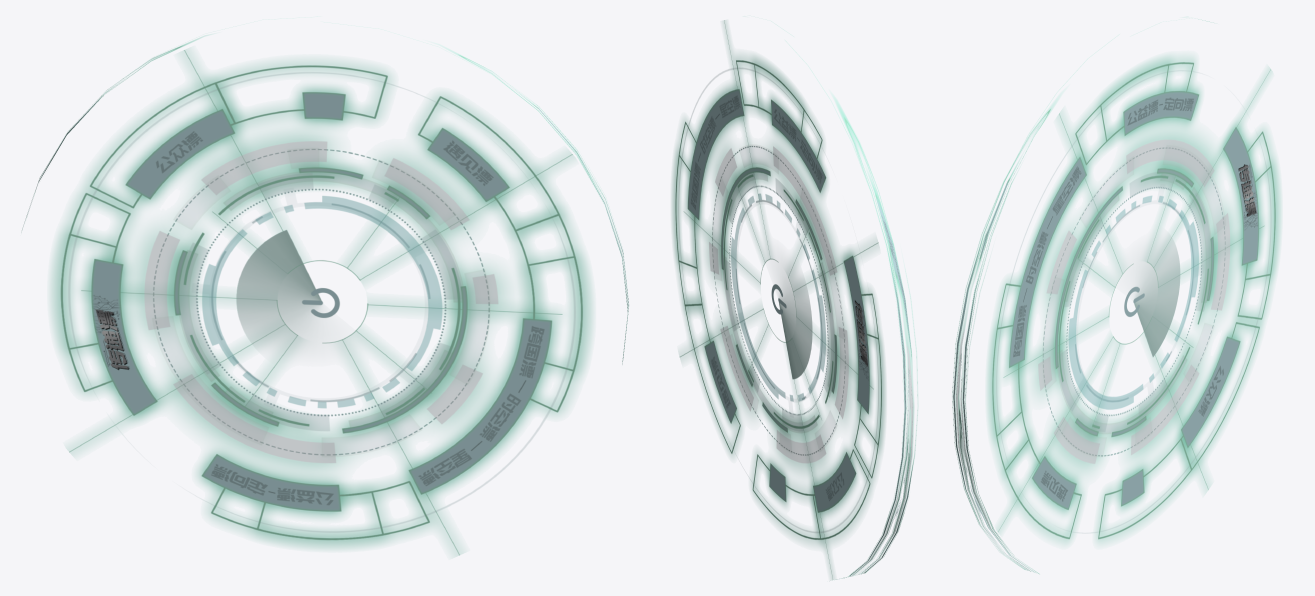
The model's file is zhuanpan.glb.
The picture shows the model from 3 angles, left to right: view 1: azimuth 30°, elevation 25°; view 2: azimuth 150°, elevation 25°; view 3: azimuth 270°, elevation 25°; orthographic projection. The views are drawn at different scales.
Visible parts, largest first — view 1: 圆柱体; view 2: 圆柱体; view 3: 圆柱体.
Boxes of the visible parts, bbox=[...] form: 圆柱体: bbox=[22, 35, 628, 555]; 圆柱体: bbox=[672, 20, 917, 580]; 圆柱体: bbox=[952, 21, 1280, 573].
Bounding box in the file's own units: 84.21 × 100 × 60.63.
Materials: 1 (1 with a texture image).
